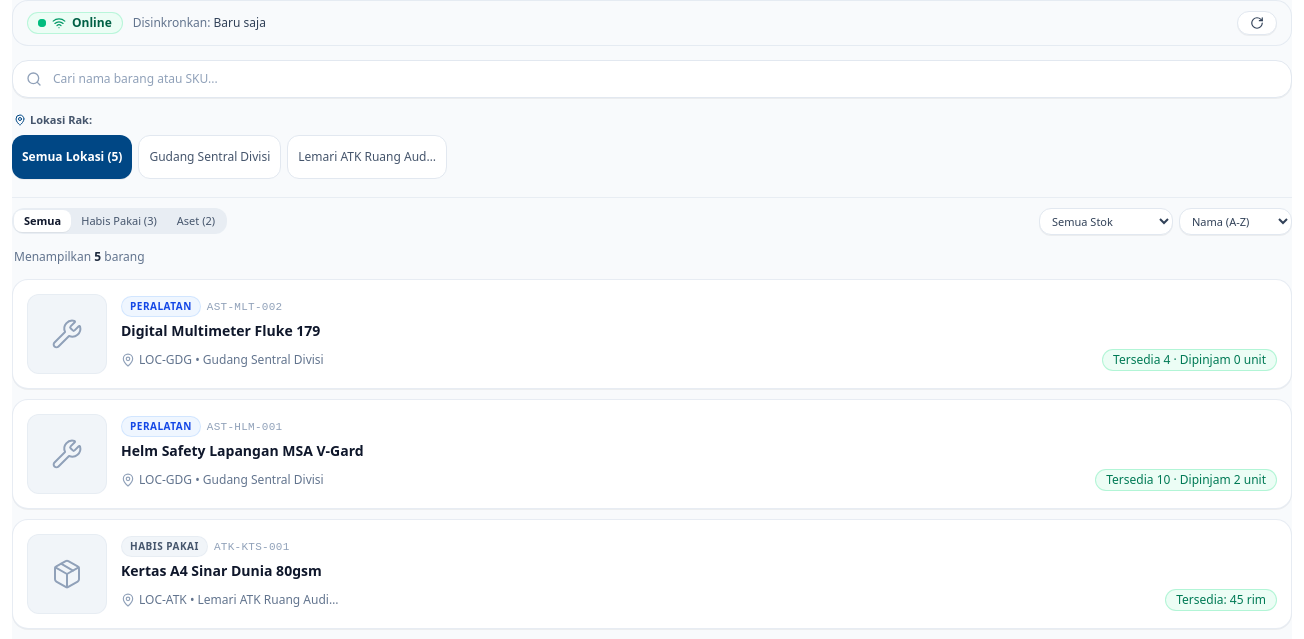
Test case: Catalog Feature Full Integration Test (Task P2.9) › filters items by location chip selection
Expected: the heading "Kertas A4 Sinar Dunia 80gsm" is shown, [121,561,322,580]
// Pilih Lemari ATK
What coordinates should you click on to do the following:
click the button with test id "location-chip-loc-atk"
I would click on:
 (367, 156)
Its box is [287,134,447,178].
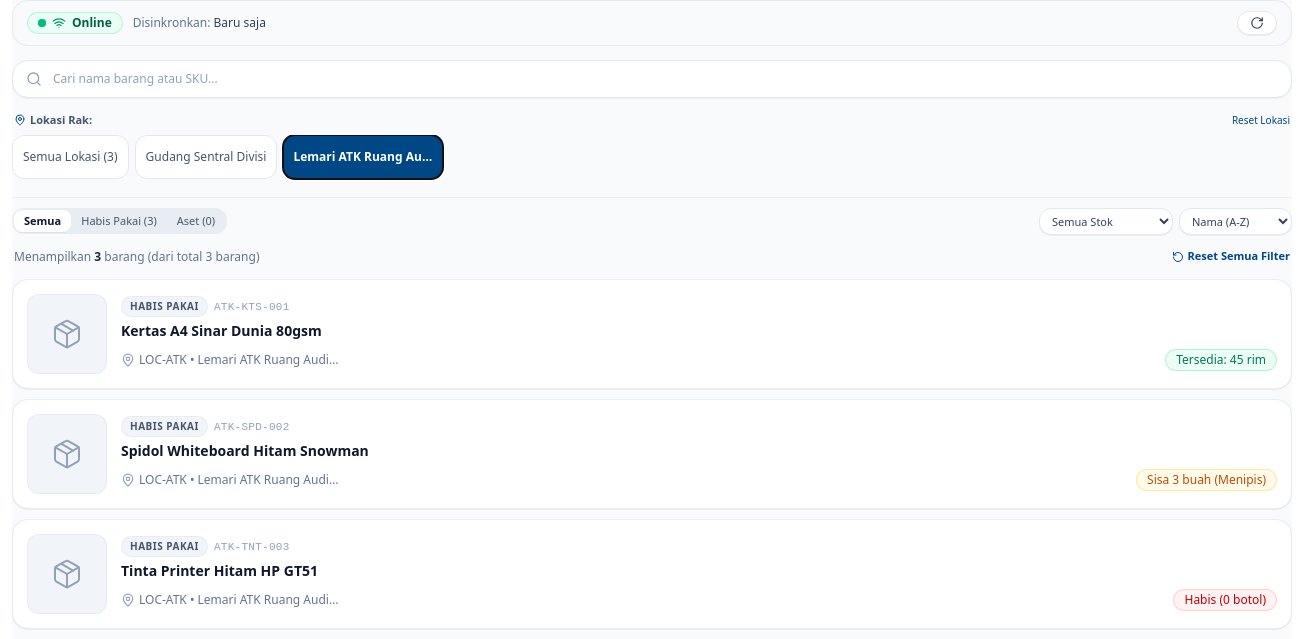
Expected: the heading "Kertas A4 Sinar Dunia 80gsm" is shown, [121,321,322,340]
Now the button "Helm Safety Lapangan MSA V-Gard" is gone
// Kembalikan ke Semua Lokasi
What coordinates should you click on to do the following:
click the button with test id "location-chip-all"
I would click on:
 (70, 156)
Its box is [12,134,129,178].
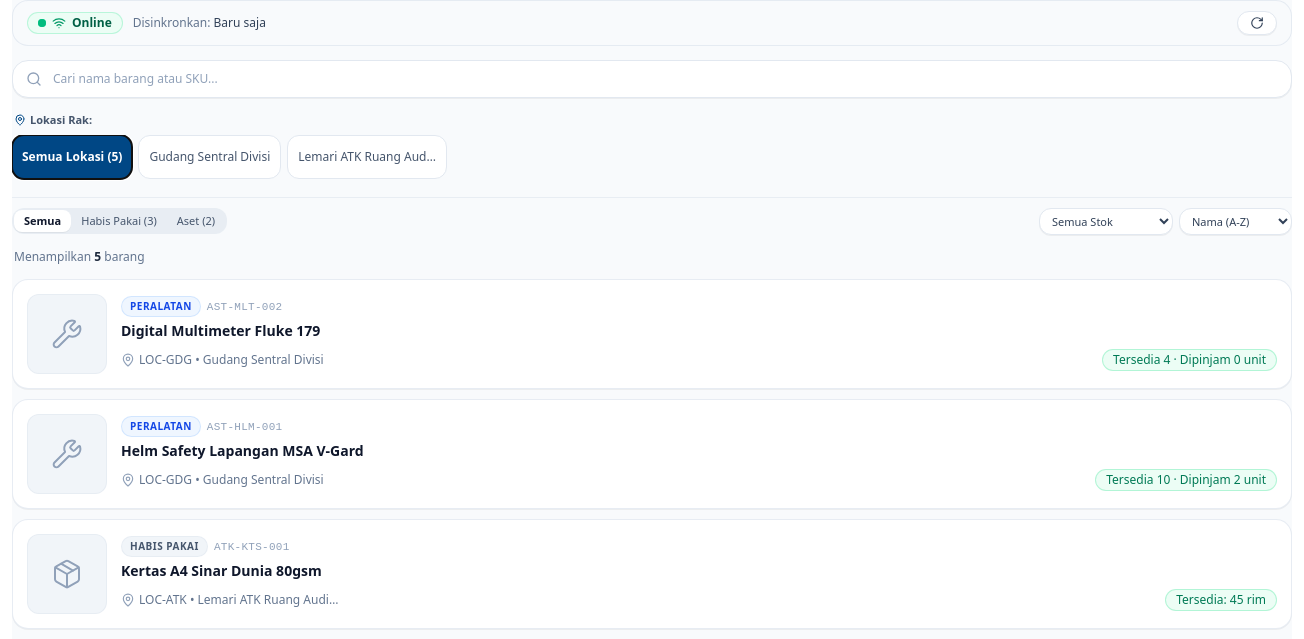
Now the heading "Helm Safety Lapangan MSA V-Gard" is shown, box [121,441,364,460]
